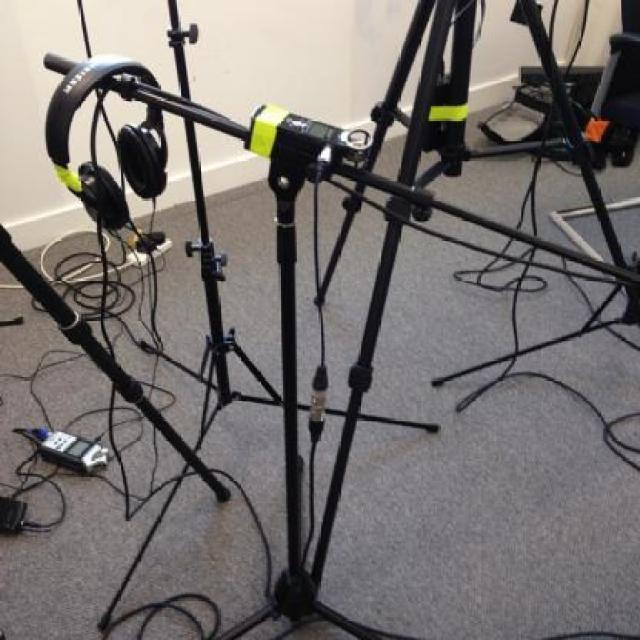earphone: (23, 38, 185, 225)
